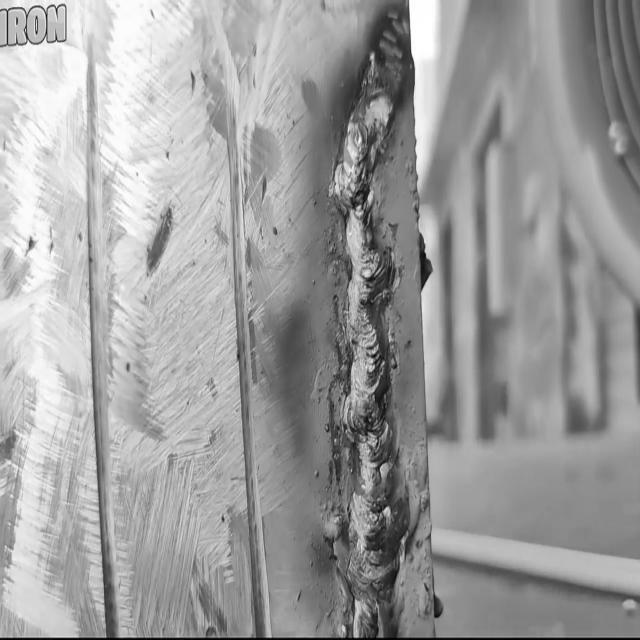Bad Weld: (327, 1, 426, 640)
